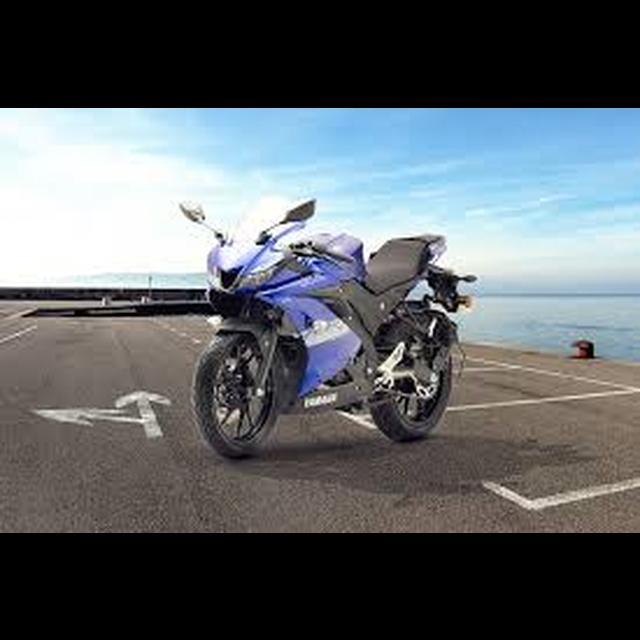motorcycle: (175, 195, 481, 465)
